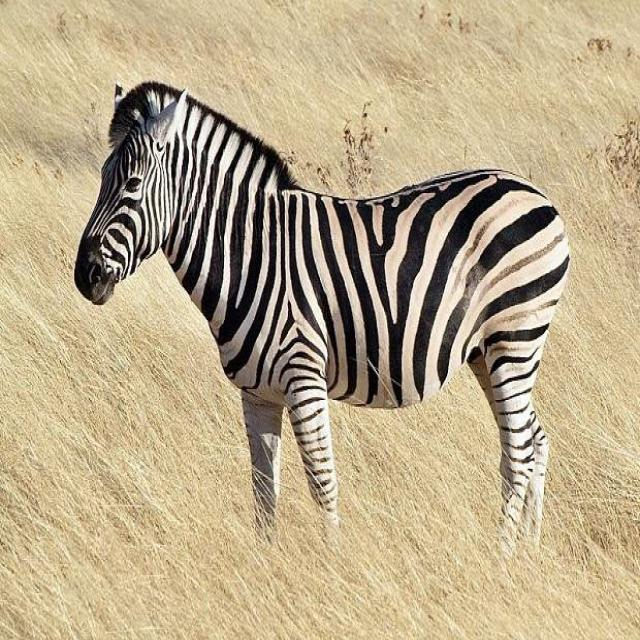Zebra: (75, 80, 569, 548)
